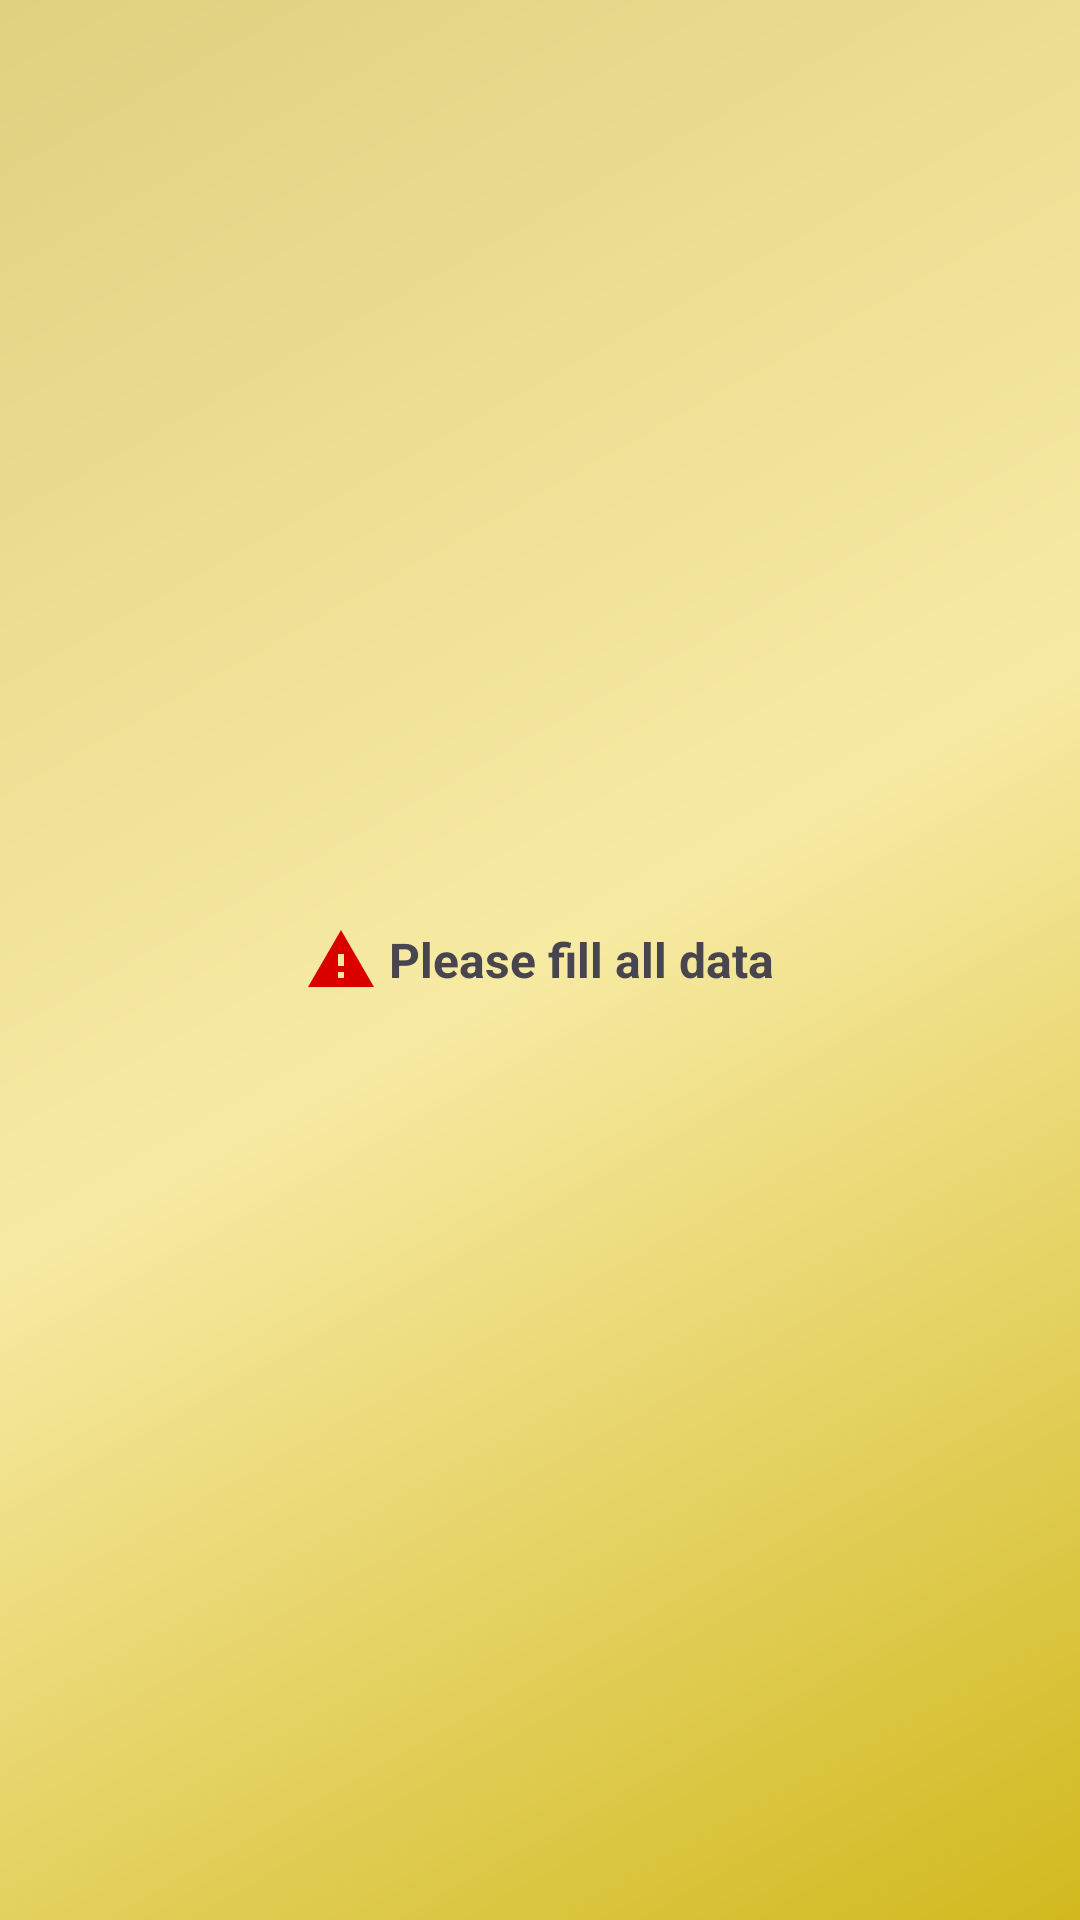

Icon click points for this 1080×1920 phone screenshot, format (x=x, y=y):
warning: (x=341, y=958)
